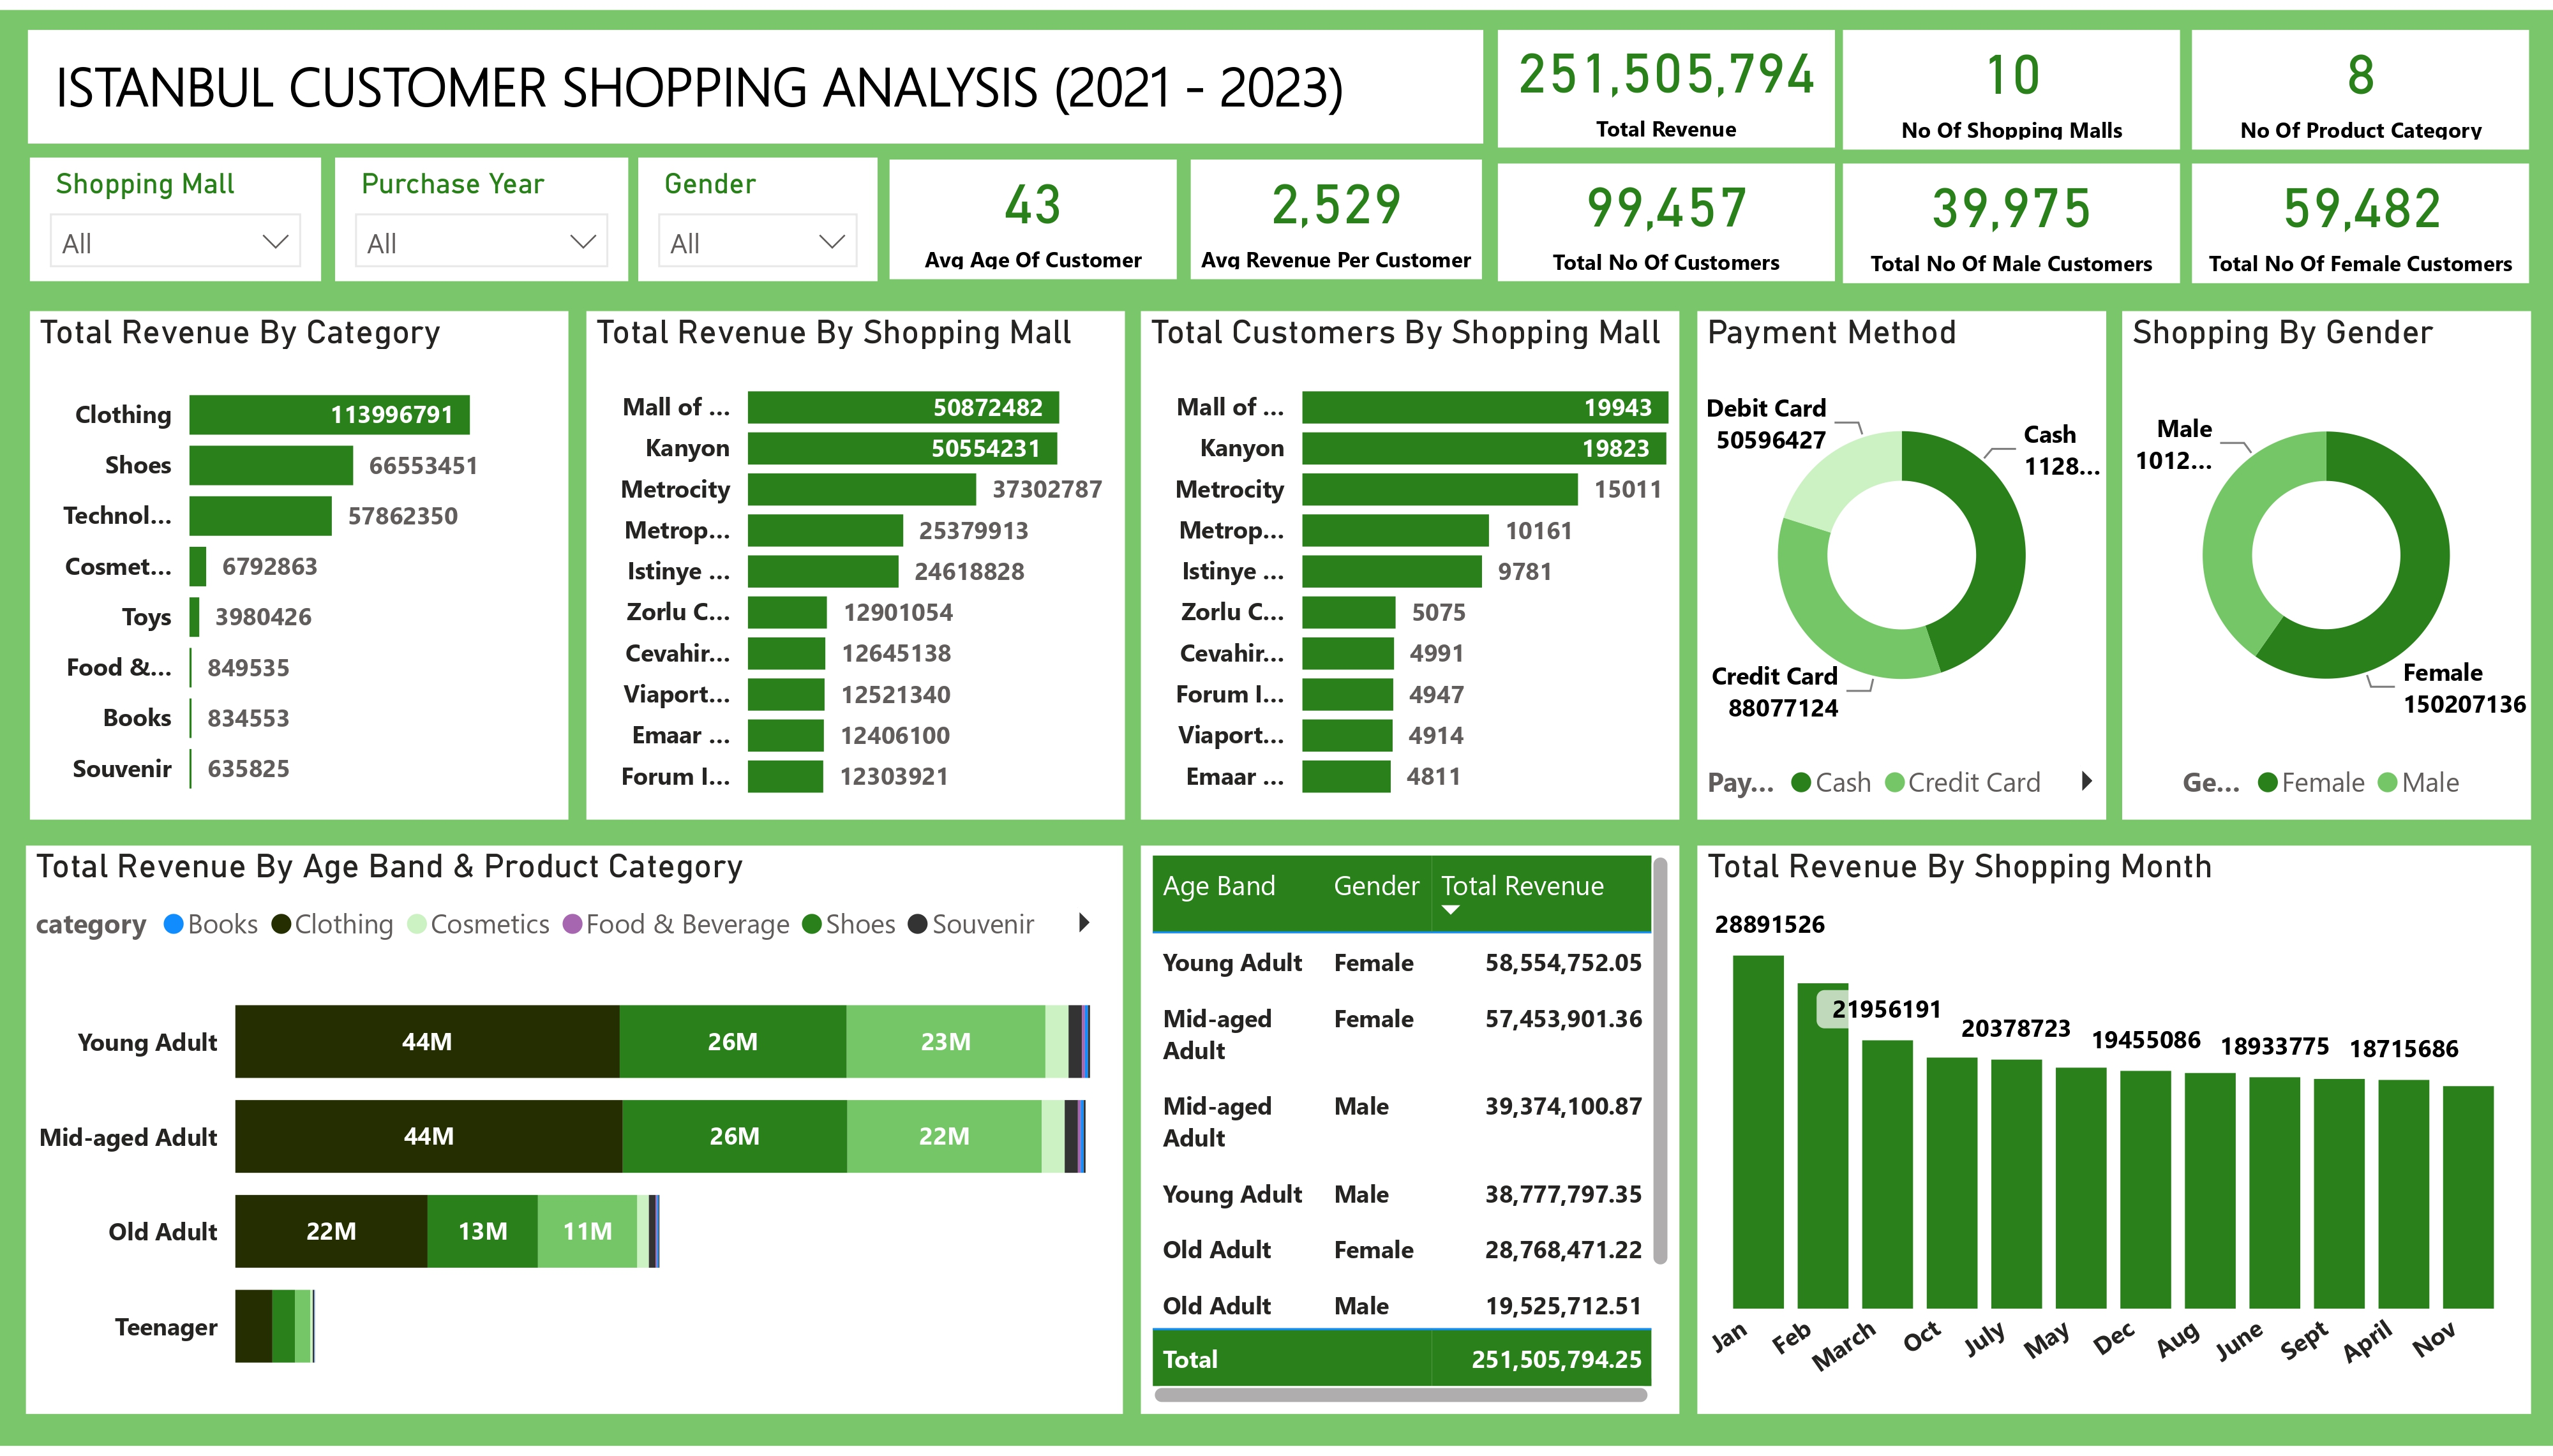

This screenshot's page, from the dashboard's own definition file:
{"tool":"powerbi","page":{"name":"REPORT","canvas":[1280,720],"ordinal":0},"visuals":[{"type":"card","fields":{"Values":["DAX.Total Revenue"]},"box":[750.6,10.4,168.9,59.2],"z":0},{"type":"card","fields":{"Values":["DAX.Total No Of Customers"]},"box":[750.6,76.6,168.9,59.2],"z":1000},{"type":"card","fields":{"Values":["DAX.No Of Shopping Malls"]},"box":[924.4,10.1,169.4,60.4],"z":2000},{"type":"card","fields":{"Values":["DAX.No Of Category"]},"box":[1098.8,10.1,169.4,60.4],"z":3000},{"type":"card","fields":{"Values":["DAX.Total No Of Male Customers"]},"box":[924.4,77.2,169.4,60.4],"z":4000},{"type":"card","fields":{"Values":["DAX.Total No Of Female Customers"]},"box":[1098.8,77.2,169.4,60.4],"z":5000},{"type":"shape","box":[13.9,10.4,729.7,57.5],"z":6000},{"type":"card","fields":{"Values":["DAX.Avg Revenue Per Customer"]},"box":[597.2,75.5,146,60.4],"z":7000},{"type":"card","fields":{"Values":["DAX.Avg Age Of Customer"]},"box":[446.2,75.5,144.3,60.4],"z":8000},{"type":"slicer","fields":{"Values":["customer_shopping_data.invoice_year"]},"box":[167.7,73.5,147,61.9],"z":9000},{"type":"slicer","fields":{"Values":["customer_shopping_data.gender"]},"box":[320,73.5,120,61.9],"z":10000},{"type":"slicer","fields":{"Values":["customer_shopping_data.shopping_mall"]},"box":[15.1,73.8,146,62.1],"z":11000},{"type":"textbox","box":[22.6,13.9,715.8,57.5],"z":12000},{"type":"barChart","title":"Total Revenue By  Category","fields":{"Category":["customer_shopping_data.category"],"Y":["Sum(customer_shopping_data.total_revenue)"]},"box":[15.1,151,270,255],"z":13000},{"type":"barChart","title":"Total Revenue By  Shopping Mall","fields":{"Y":["Sum(customer_shopping_data.total_revenue)"],"Category":["customer_shopping_data.shopping_mall"]},"box":[293.6,151,270.1,255],"z":14000},{"type":"barChart","title":"Total Customers By  Shopping Mall","fields":{"Y":["DAX.Old Total No of Customers"],"Category":["customer_shopping_data.shopping_mall"]},"box":[572.1,151,270.1,255],"z":15000},{"type":"donutChart","title":"Payment Method","fields":{"Y":["DAX.Old Total Revenue"],"Category":["customer_shopping_data.payment_method"]},"box":[850.5,151,205,255],"z":16000},{"type":"donutChart","title":"Shopping By Gender","fields":{"Y":["DAX.Old Total Revenue"],"Category":["customer_shopping_data.gender"]},"box":[1063.6,151,204.7,255],"z":17000},{"type":"barChart","title":"Total Revenue By Age Band & Product Category","fields":{"Category":["customer_shopping_data.age_band"],"Y":["DAX.Old Total Revenue"],"Series":["customer_shopping_data.category"]},"box":[13.4,419.4,550.2,285.2],"z":18000},{"type":"lineClusteredColumnComboChart","title":"Total Revenue By  Shopping Month","fields":{"Category":["customer_shopping_data.invoice_month"],"Y":["Sum(customer_shopping_data.total_revenue)"]},"box":[850.5,419.4,417.7,285.2],"z":19000},{"type":"tableEx","title":"Total Revenue By  Category","fields":{"Values":["customer_shopping_data.age_band","customer_shopping_data.gender","Sum(customer_shopping_data.total_revenue)"]},"box":[572.1,419.4,270.1,285.2],"z":20000}]}

Visuals, with their boxes in screenshot pixels (x1, y1, x2, y2), scaled from the page's 1280x720 canvas onto the 2553x1456 screenshot:
card - DAX.Total Revenue: (1497,21,1834,141)
card - DAX.Total No Of Customers: (1497,155,1834,274)
card - DAX.No Of Shopping Malls: (1844,20,2182,142)
card - DAX.No Of Category: (2192,20,2529,142)
card - DAX.Total No Of Male Customers: (1844,156,2182,278)
card - DAX.Total No Of Female Customers: (2192,156,2529,278)
shape: (27,21,1483,137)
card - DAX.Avg Revenue Per Customer: (1191,152,1482,275)
card - DAX.Avg Age Of Customer: (890,152,1178,275)
slicer - customer_shopping_data.invoice_year: (334,149,627,274)
slicer - customer_shopping_data.gender: (638,149,878,274)
slicer - customer_shopping_data.shopping_mall: (30,149,321,275)
textbox: (45,28,1473,144)
"Total Revenue By  Category" barChart: (30,306,569,821)
"Total Revenue By  Shopping Mall" barChart: (586,306,1125,821)
"Total Customers By  Shopping Mall" barChart: (1141,306,1680,821)
"Payment Method" donutChart: (1696,306,2105,821)
"Shopping By Gender" donutChart: (2122,306,2529,821)
"Total Revenue By Age Band & Product Category" barChart: (27,848,1124,1425)
"Total Revenue By  Shopping Month" lineClusteredColumnComboChart: (1696,848,2529,1425)
"Total Revenue By  Category" tableEx: (1141,848,1680,1425)
